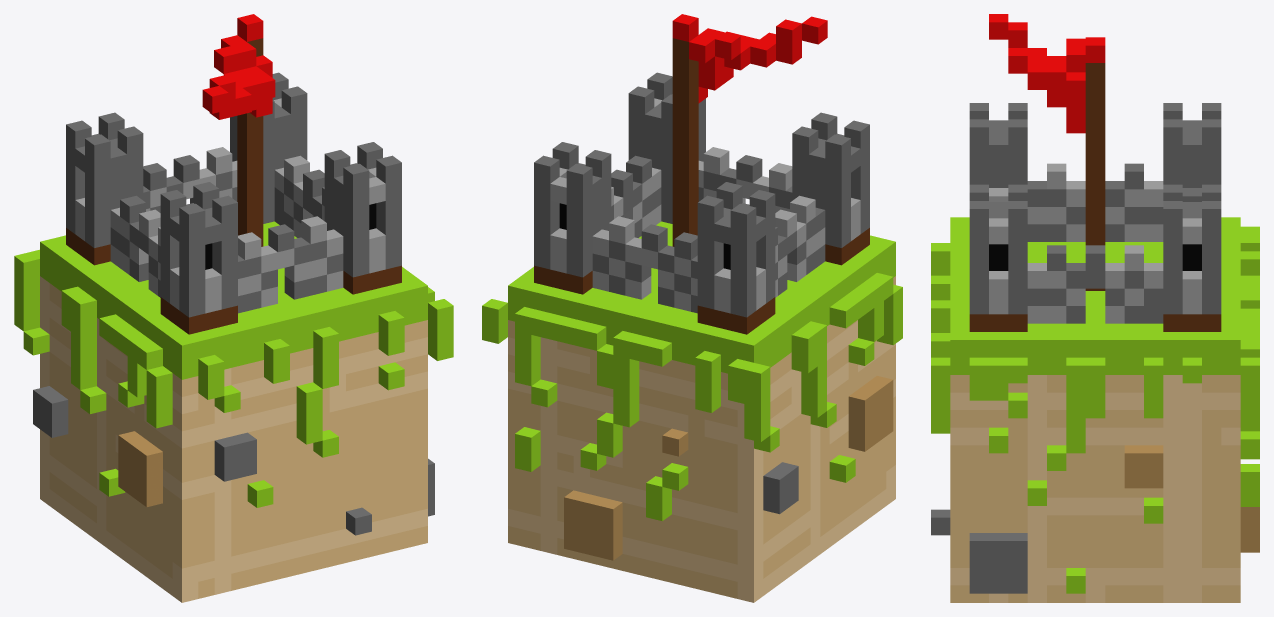
Rendered from Mountain03.obj.
3 renders of one model, left to right at view 1: azimuth 30°, elevation 25°; view 2: azimuth 150°, elevation 25°; view 3: azimuth 270°, elevation 25°, orthographic. The views are drawn at different scales.
Size of the model in its own units: 1.7 by 2.9 by 1.7.
1 material, 1 textured.
